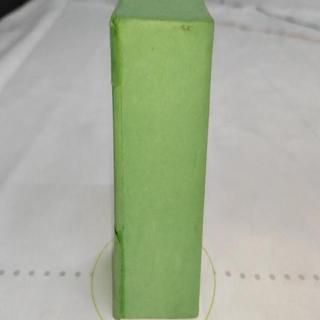greenbox: (109, 0, 216, 320)
